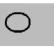no answer: (4, 9, 32, 35)
